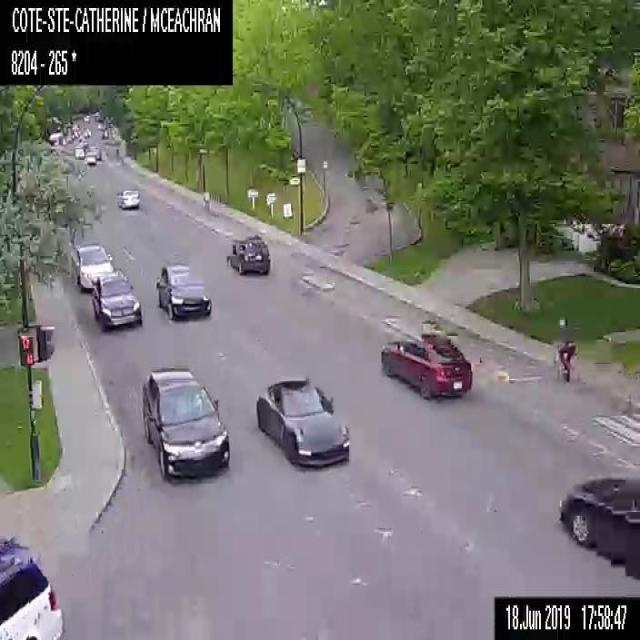cyclist: (550, 314, 575, 382)
vehicle: (142, 365, 230, 479), (558, 473, 639, 580), (256, 376, 347, 467), (0, 536, 65, 639), (379, 333, 473, 398), (154, 262, 211, 318), (92, 272, 142, 330), (226, 232, 269, 276), (74, 242, 113, 290), (116, 187, 139, 208), (86, 150, 95, 166), (74, 147, 84, 159), (91, 148, 101, 159), (80, 137, 88, 148), (84, 126, 90, 138), (102, 127, 108, 138)
